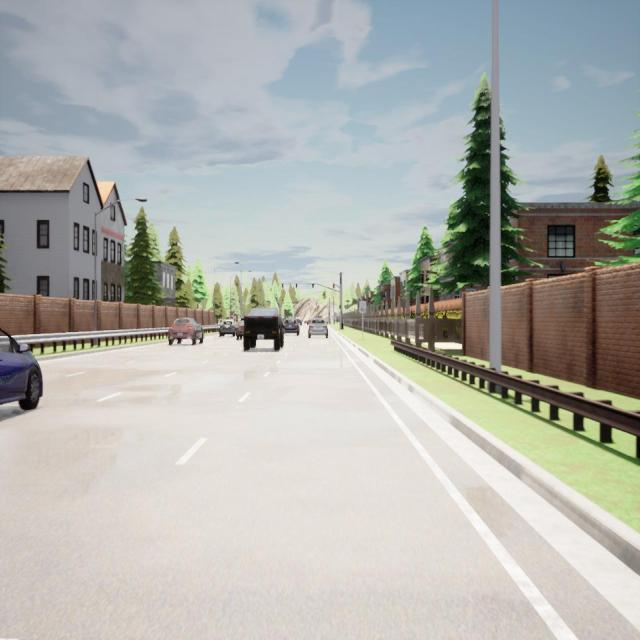Traffic_Signs: (359, 301, 366, 313), (230, 313, 234, 319)
Vehicle: (0, 328, 43, 411), (244, 307, 283, 351), (168, 317, 204, 345), (308, 318, 328, 339), (219, 320, 236, 337), (284, 318, 300, 336), (236, 321, 244, 340), (295, 318, 302, 326)
traffic_light: (338, 305, 341, 311), (282, 284, 284, 290), (312, 284, 314, 289), (333, 284, 335, 288), (296, 284, 297, 289)
